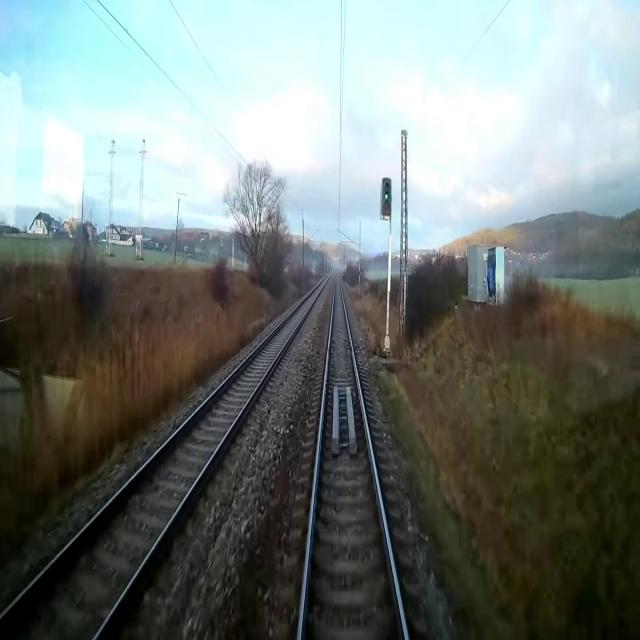rail-track: (0, 274, 329, 639), (301, 272, 404, 639)
